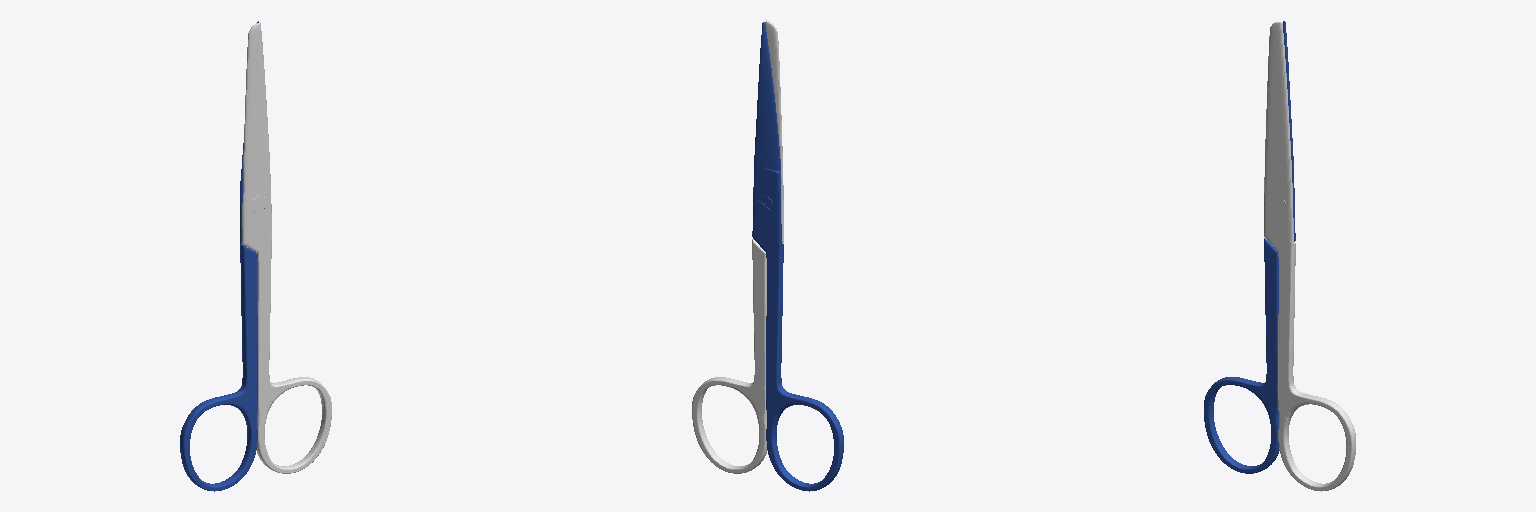
robot.urdf — onshape:
<robot name="onshape">
<link name="part2">
    <visual>
        <origin xyz="-0.0055189212023849538308 -0.0053819040919259189884 0.0056341909945921767044" rpy="2.7343962984979360919e-07 -4.0084602304090903287e-13 1.4651404634102378437e-06" />
        <geometry>
        <mesh filename="./part2.stl"/>
        </geometry>
        <material name="part2_material">
        <color rgba="0.2313725490196078538 0.38039215686274507888 0.7058823529411765163 1.0"/>
        </material>
    </visual>
    <collision>
        <origin xyz="-0.0055189212023849538308 -0.0053819040919259189884 0.0056341909945921767044" rpy="2.7343962984979360919e-07 -4.0084602304090903287e-13 1.4651404634102378437e-06" />
        <geometry>
        <mesh filename="./part2_physic.stl"/>
        </geometry>
    </collision>
</link>

<link name="part1">
    <visual>
        <origin xyz="-0.0055189183905689949416 -0.0053819035586019445955 0.0056341905383137736232" rpy="0 -0 0" />
        <geometry>
        <mesh filename="./part1.stl"/>
        </geometry>
        <material name="part1_material">
        <color rgba="0.91764705882352937127 0.91764705882352937127 0.91764705882352937127 1.0"/>
        </material>
    </visual>
    <collision>
        <origin xyz="-0.0055189183905689949416 -0.0053819035586019445955 0.0056341905383137736232" rpy="0 -0 0" />
        <geometry>
        <mesh filename="./part1_physic.stl"/>
        </geometry>
    </collision>
</link>

<joint name="center_axis" type="revolute">
    <origin xyz="0 0 0" rpy="0 0 0"/>
    <parent link="part2"/>
    <child link="part1"/>
    <limit effort="30" velocity="1.0" lower="-0.4" upper="0.0" />
    <axis xyz="0 1 0"/>
</joint>
</robot>

--- Facts derived from the render (not from the file) ---
The picture shows the robot from 3 angles, left to right: view 1: azimuth 30°, elevation 25°; view 2: azimuth 150°, elevation 25°; view 3: azimuth 330°, elevation 25°; orthographic projection.
Model onshape with 2 links and 1 joints (1 revolute), rooted at part2, posed every joint at zero.
Links seen in each view (by area): view 1: part1, part2; view 2: part2, part1; view 3: part1, part2.
Link boxes in pixels (bbox=[...]): part1: bbox=[242, 22, 331, 473]; part2: bbox=[180, 21, 258, 491]; part2: bbox=[752, 22, 843, 491]; part1: bbox=[692, 20, 783, 473]; part1: bbox=[1264, 22, 1355, 491]; part2: bbox=[1204, 21, 1295, 473].
Bounding box of the posed robot: 0.0508 × 0.0029 × 0.1488 m (x, y, z).
2 mesh visuals loaded from 2 distinct referenced files (2 binary STL).